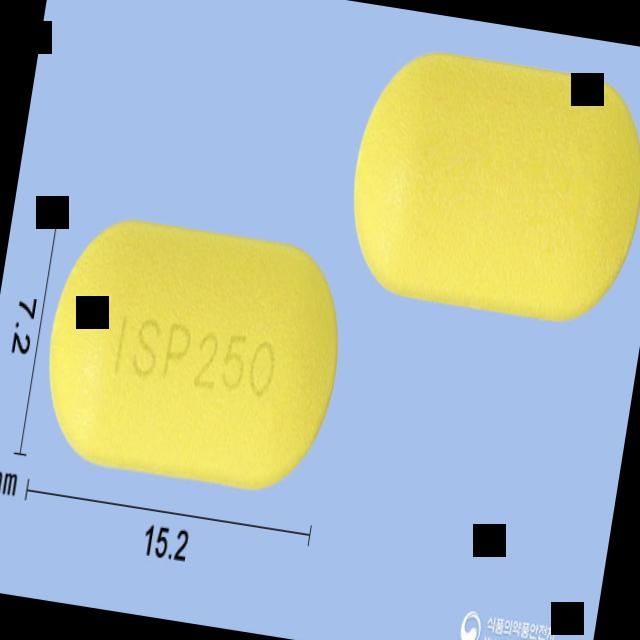Ilsung Clarithromycin - 500mg: (32, 206, 356, 499)
